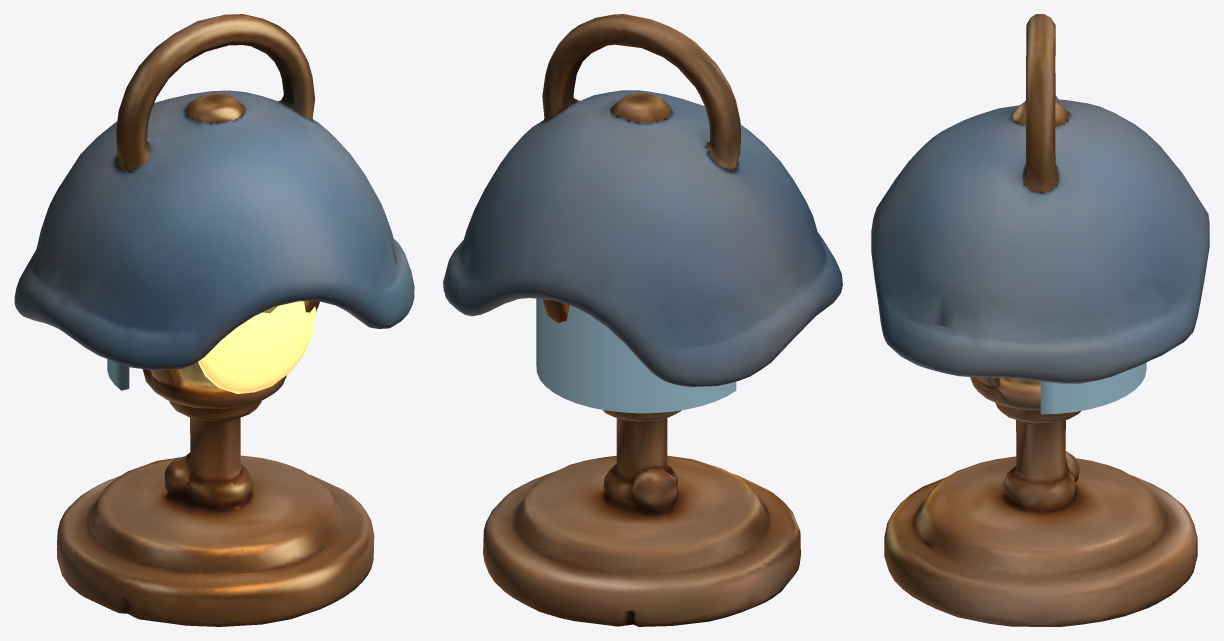
File: hooded-lamp.glb
3 views of the same model, side by side, from view 1: azimuth 30°, elevation 25°; view 2: azimuth 150°, elevation 25°; view 3: azimuth 270°, elevation 25° (orthographic).
Visible parts, largest first — view 1: hooded-lamp; view 2: hooded-lamp; view 3: hooded-lamp.
Part boxes in pixels (x1,y1,x2,y2): hooded-lamp: [14, 14, 414, 626]; hooded-lamp: [443, 14, 842, 626]; hooded-lamp: [871, 14, 1209, 626].
Size of the model in its own units: 1.29 by 2 by 1.14.
Materials: 3 (1 with a texture image).
